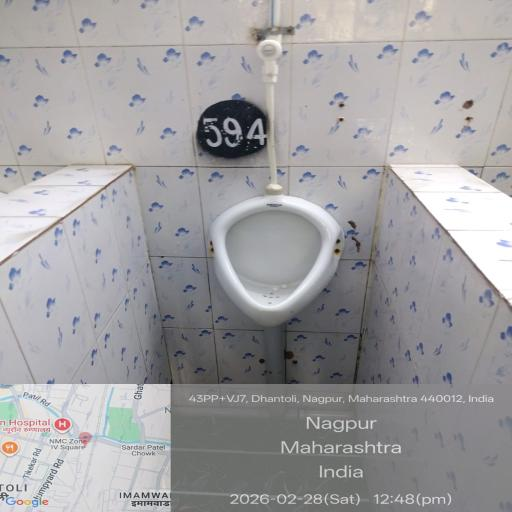clean_floor: (21, 11, 512, 197), (41, 320, 453, 492)
clean_urinal: (222, 172, 362, 328)
